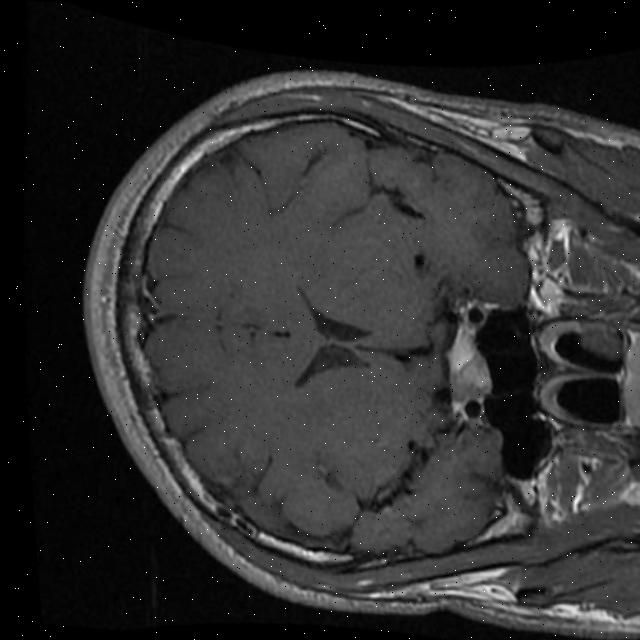Pituitary: (438, 318, 498, 403)
